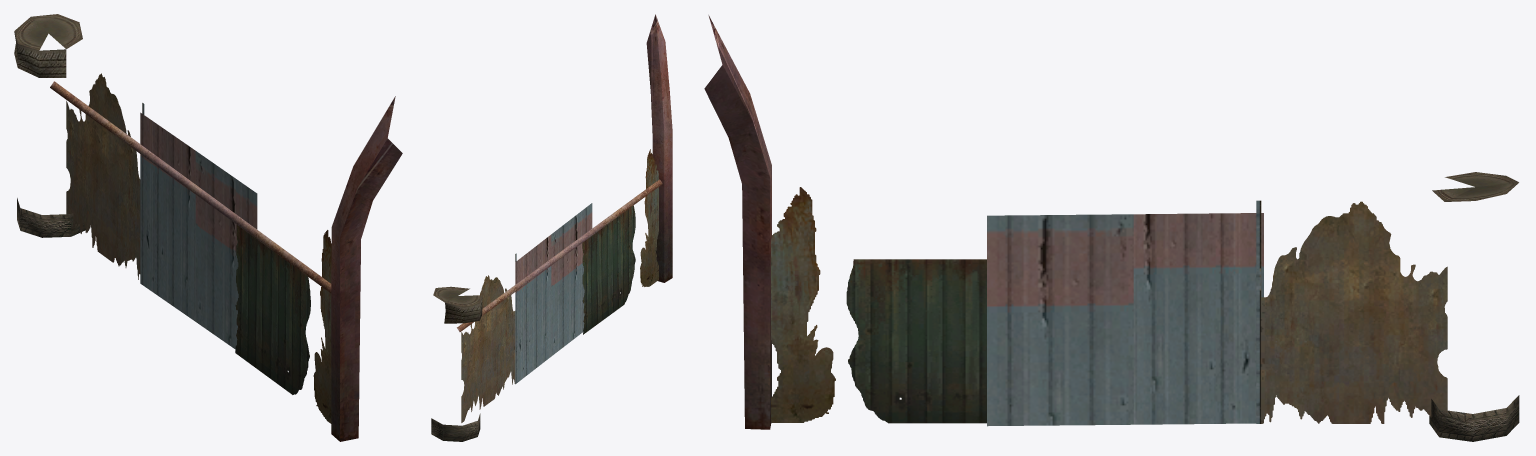
File: Prop_Wj016a_lod2.glb
3 views of the same model, side by side, from view 1: azimuth 30°, elevation 25°; view 2: azimuth 150°, elevation 25°; view 3: azimuth 270°, elevation 25° (orthographic). The views are drawn at different scales.
Visible parts, largest first — view 1: xiutz_wj016a_0_lod1; view 2: xiutz_wj016a_0_lod1; view 3: xiutz_wj016a_0_lod1.
Part boxes in pixels (box(x1,y1,x2,y2)): xiutz_wj016a_0_lod1: box(14, 14, 402, 441); xiutz_wj016a_0_lod1: box(431, 14, 672, 441); xiutz_wj016a_0_lod1: box(704, 15, 1519, 441).
Bounding box in the file's own units: 1.1 × 5.02 × 8.72.
Materials: 2 (2 with a texture image).
